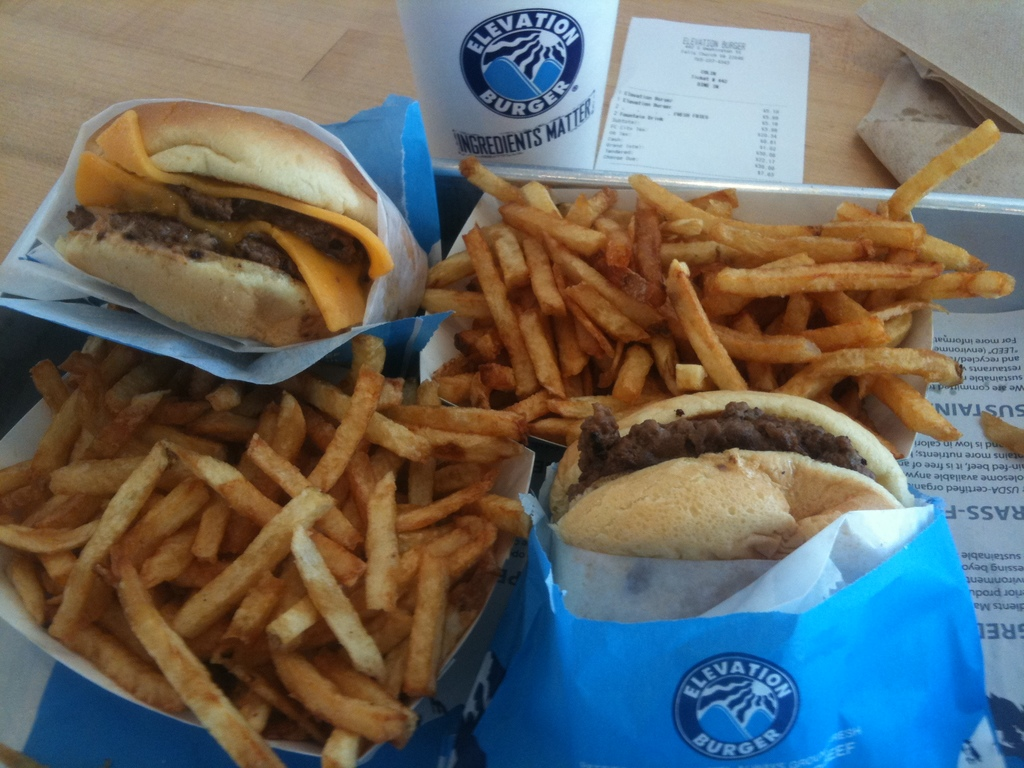French fries: (0, 334, 566, 767), (400, 188, 956, 547), (984, 407, 1023, 458)
